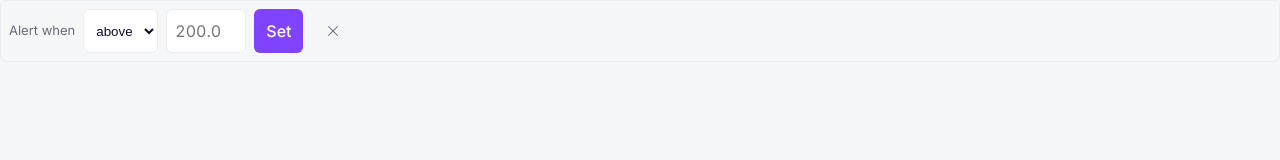
AlertForm › says why an empty threshold was refused
This screenshot has width=1280, height=160.
Click the button "Set" at (279, 31), box top-left (254, 9), bottom-right (304, 53)
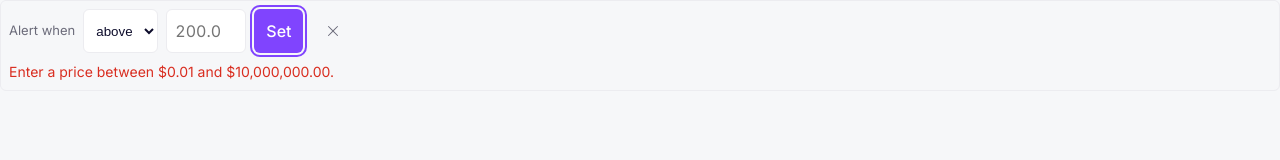
Expected: the message shows "Enter a price", top-left (9, 63), bottom-right (334, 80)
